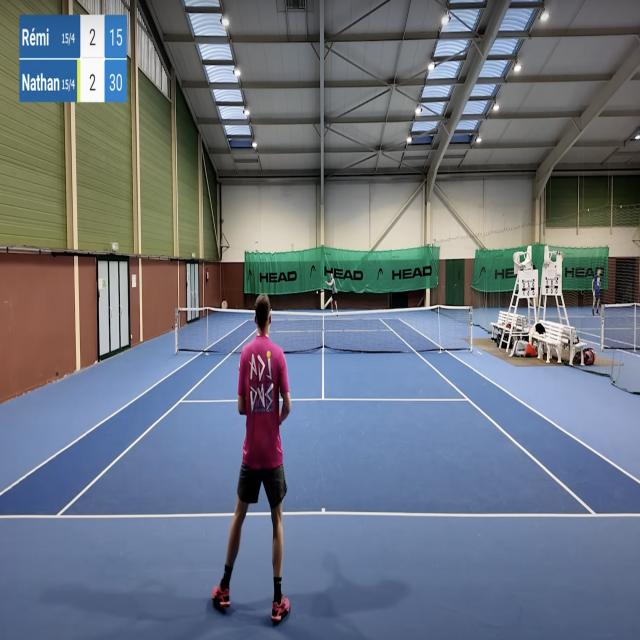ball: (316, 291, 318, 294)
